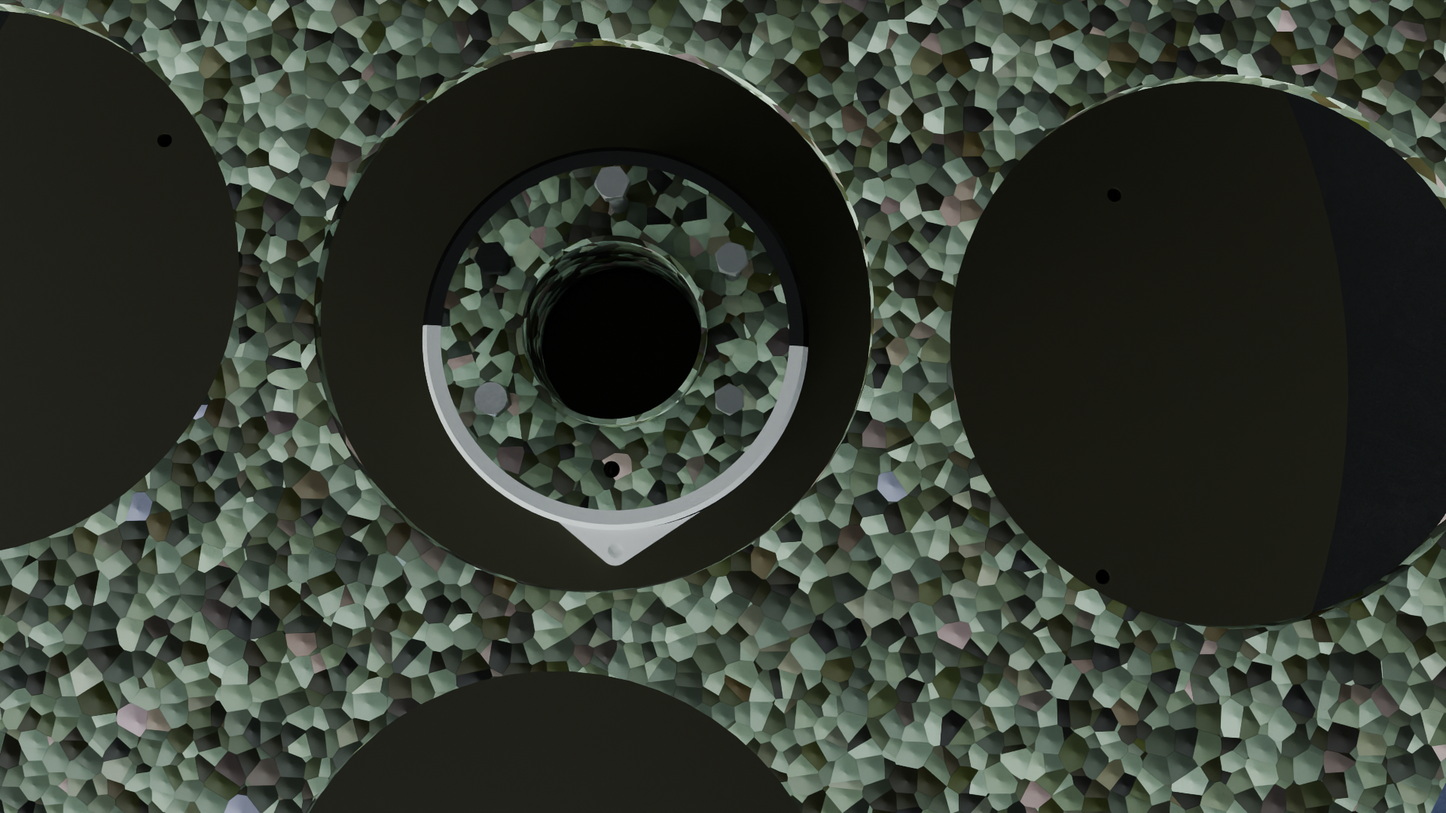bolt: (474, 380, 509, 416), (594, 166, 630, 199), (715, 242, 748, 275), (474, 242, 508, 273), (715, 383, 744, 416)
